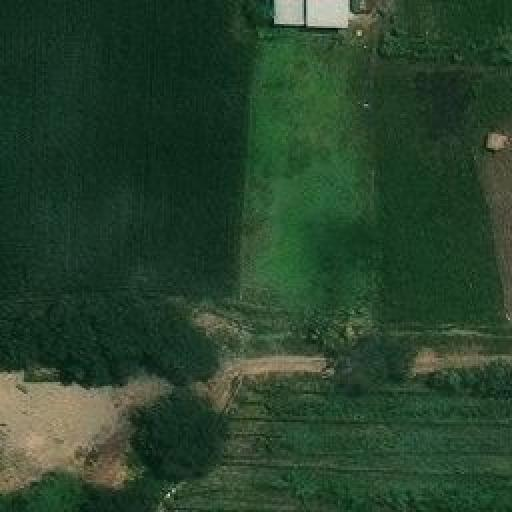manzanas: (273, 1, 371, 31)
